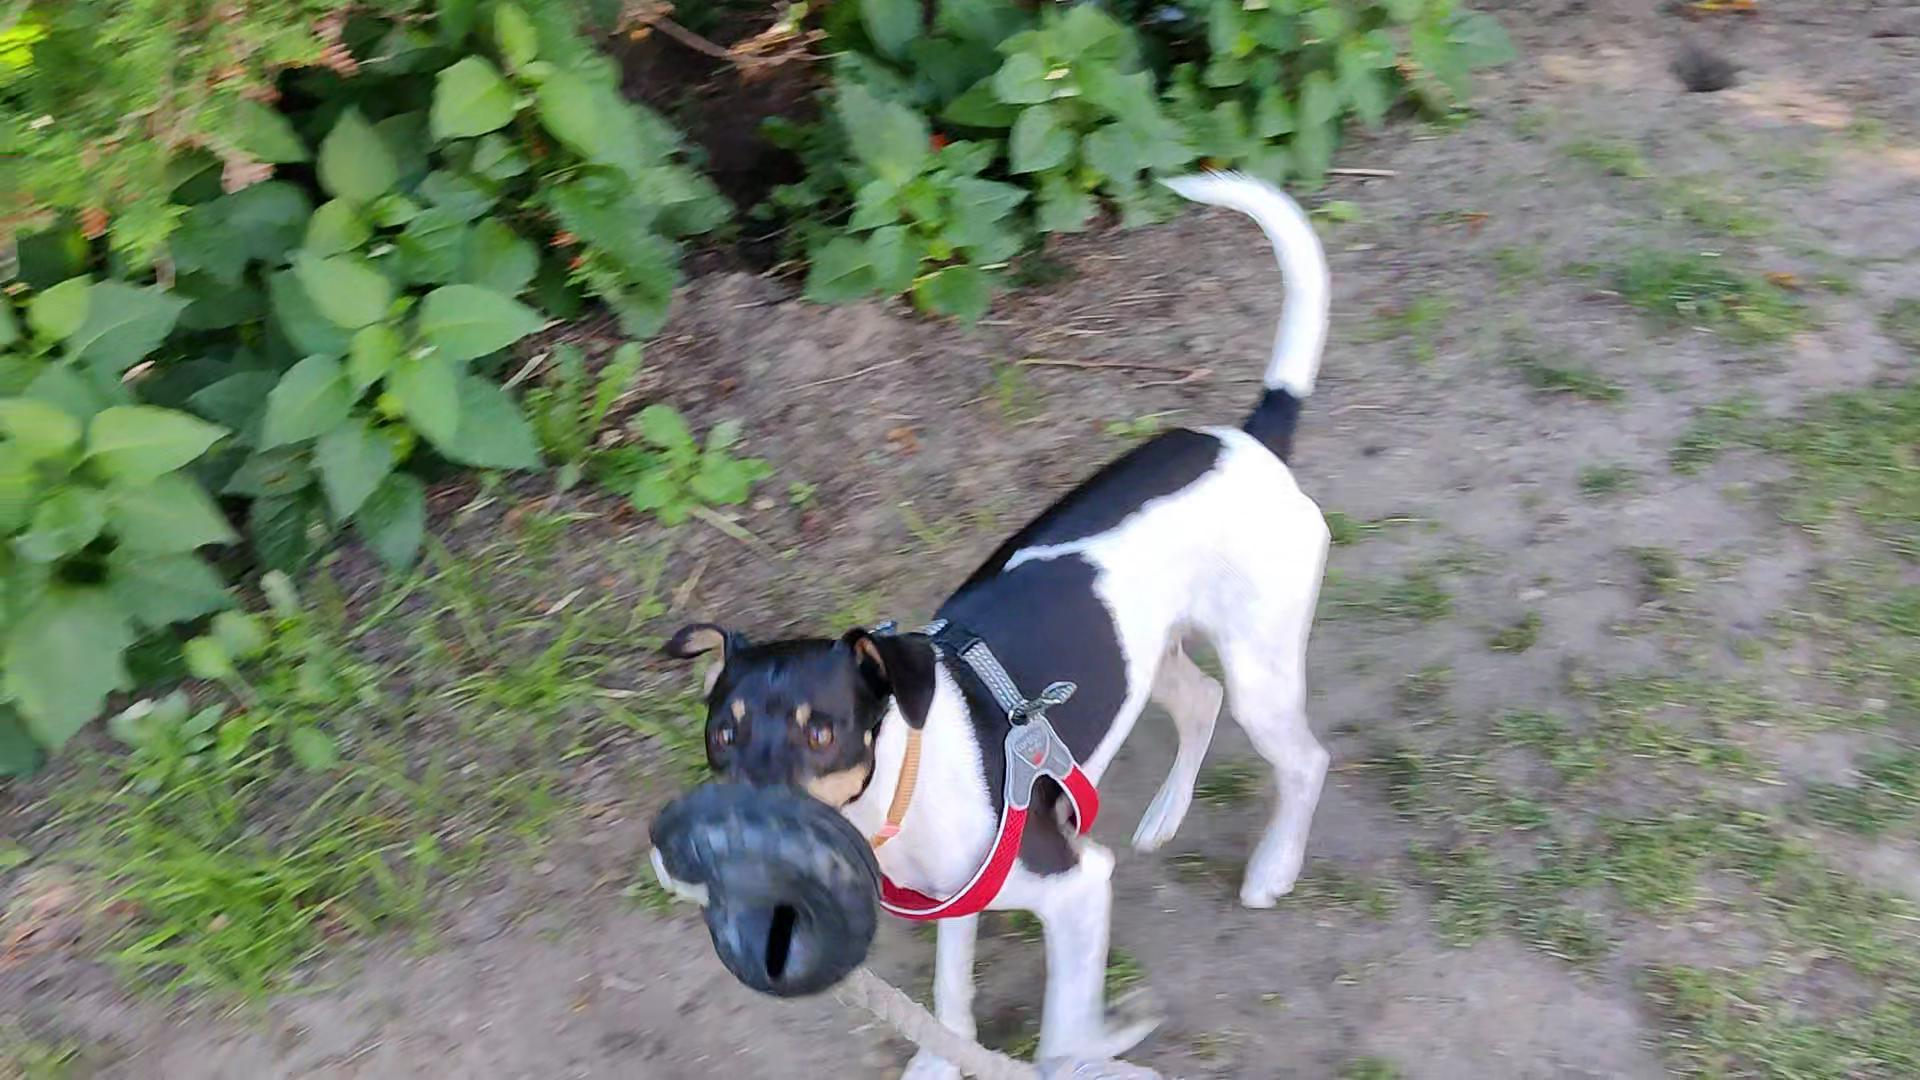Dog: (646, 160, 1350, 1079)
